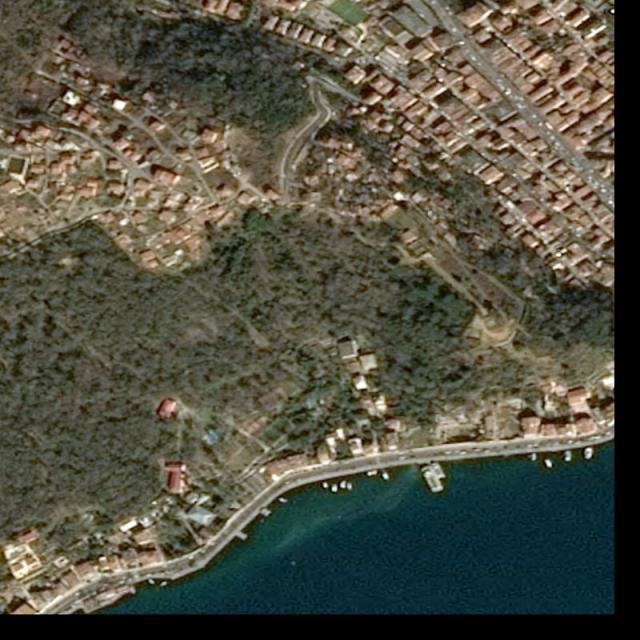ship: (432, 462, 447, 482), (582, 446, 595, 462), (564, 450, 572, 463), (159, 580, 169, 590), (545, 458, 554, 469), (345, 480, 354, 491), (366, 469, 378, 477), (147, 578, 157, 587), (382, 471, 390, 482), (330, 483, 338, 493), (277, 496, 288, 503), (321, 481, 328, 490), (531, 453, 538, 462), (338, 481, 344, 490)
